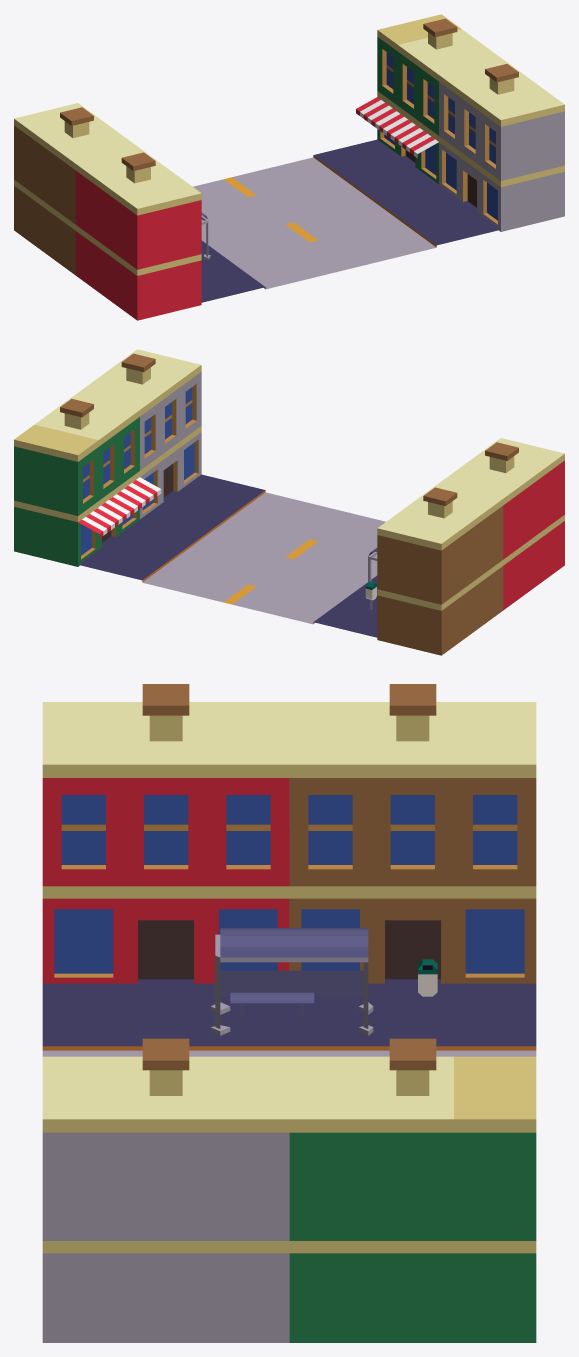
File: road2.obj
3 renders of one model, top to bottom at view 1: azimuth 30°, elevation 25°; view 2: azimuth 150°, elevation 25°; view 3: azimuth 270°, elevation 25°, orthographic. The views are drawn at different scales.
Parts seen in each view (by area): view 1: BUILDINGS, ROAD2; view 2: BUILDINGS, ROAD2, BUS_STOP; view 3: BUILDINGS, ROAD2, BUS_STOP.
Boxes of the visible parts, x1=… form: BUILDINGS: x1=14, y1=14, x2=564, y2=320; ROAD2: x1=193, y1=139, x2=500, y2=302; BUILDINGS: x1=14, y1=349, x2=564, y2=655; ROAD2: x1=78, y1=474, x2=385, y2=637; BUS_STOP: x1=365, y1=548, x2=377, y2=609; BUILDINGS: x1=42, y1=684, x2=536, y2=1342; ROAD2: x1=42, y1=979, x2=536, y2=1056; BUS_STOP: x1=210, y1=928, x2=437, y2=1035.
Bounding box in the file's own units: 20 × 5.85 × 10.
